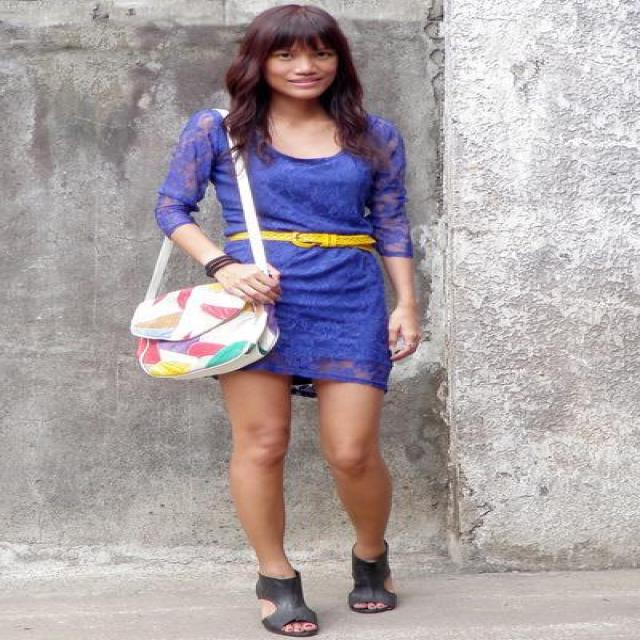bag: (130, 166, 276, 378)
dress: (154, 102, 428, 392)
shoe: (256, 551, 389, 610)
